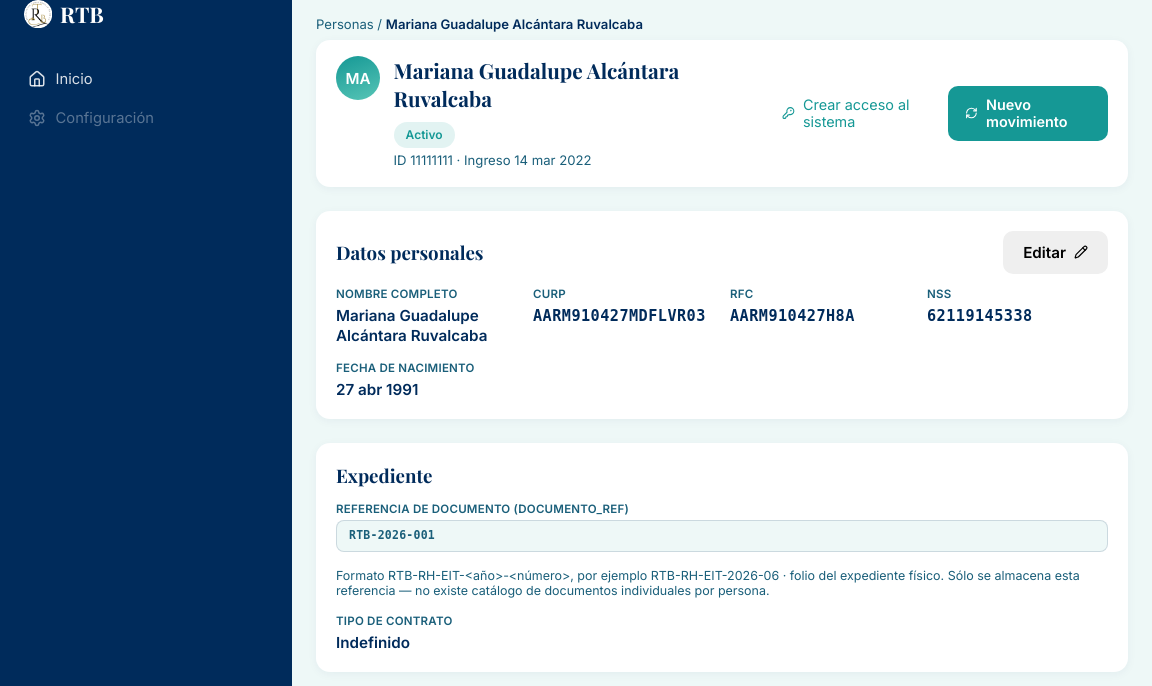
Test: FichaPersonaPage › edición in-place de Datos personales/Expediente › un folio nuevo mal formado se avisa antes de enviar y no hace PATCH
expect the text "Mariana Guadalupe Alcántara Ruvalcaba" next to "Personas" is shown: met, box [386, 16, 643, 32]
Step 1. Click the button "Editar" → (1056, 252), box [1003, 231, 1108, 274]
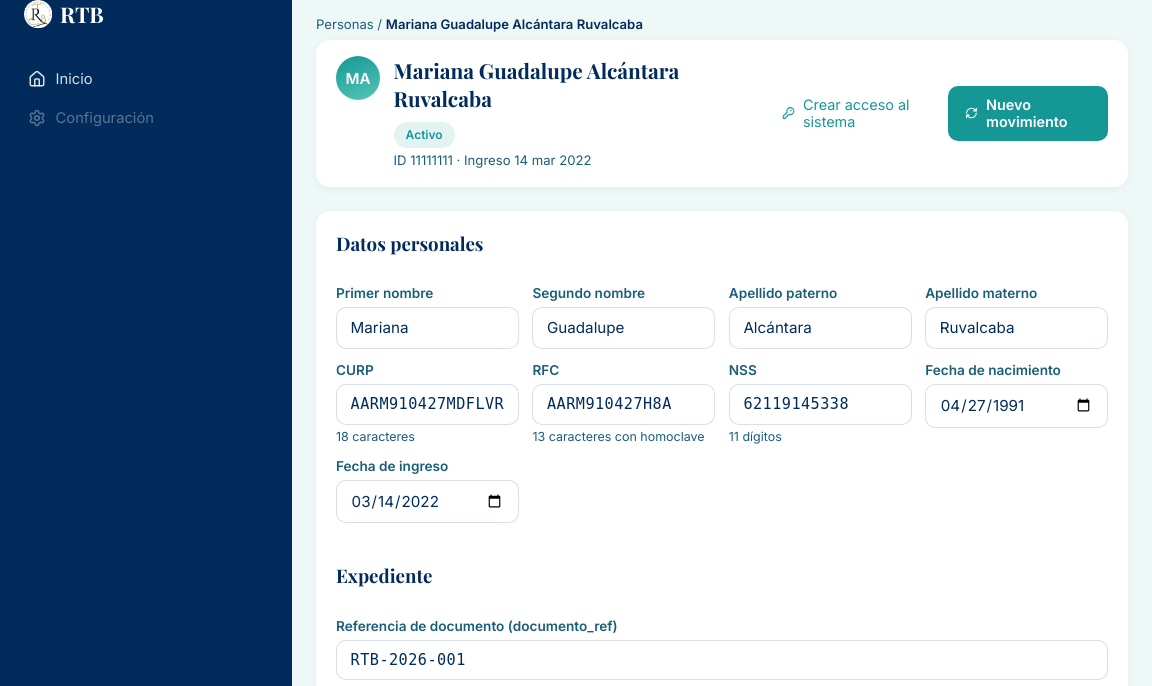
Step 2. Replace the text in the field labelled "Referencia de documento (documento_ref)" with "RTB-2026-002" → (722, 660), box [336, 640, 1108, 680]
(page scrolled)
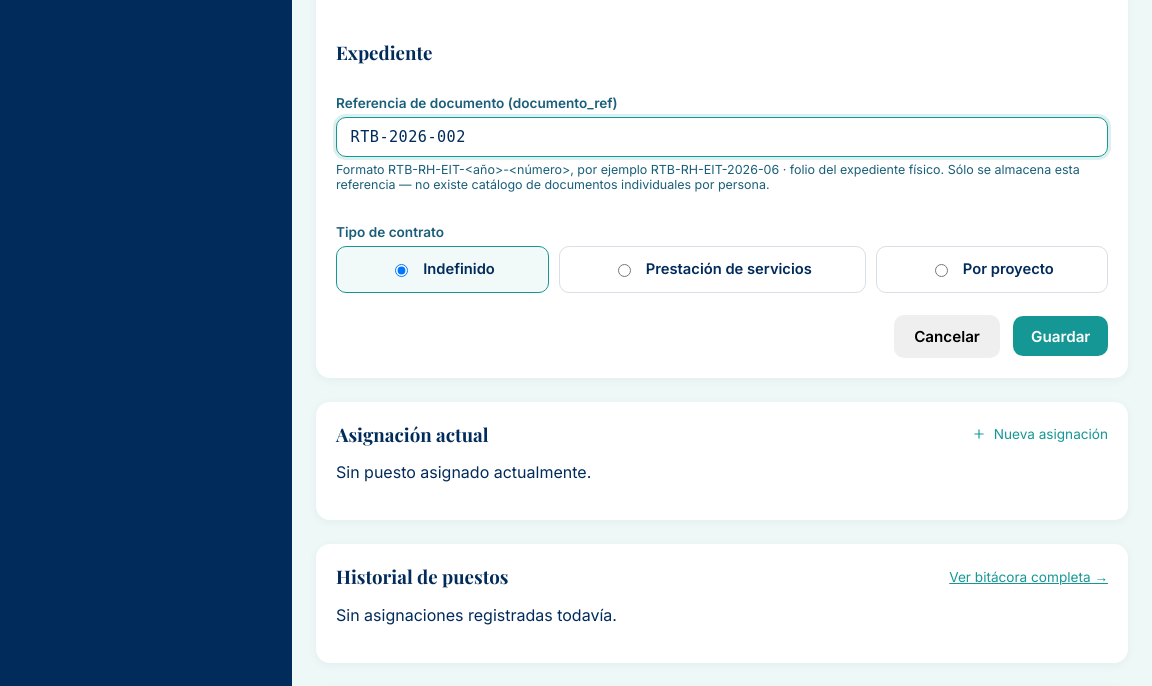
Step 3. Click the button "Guardar" → (1061, 336), box [1014, 316, 1108, 356]
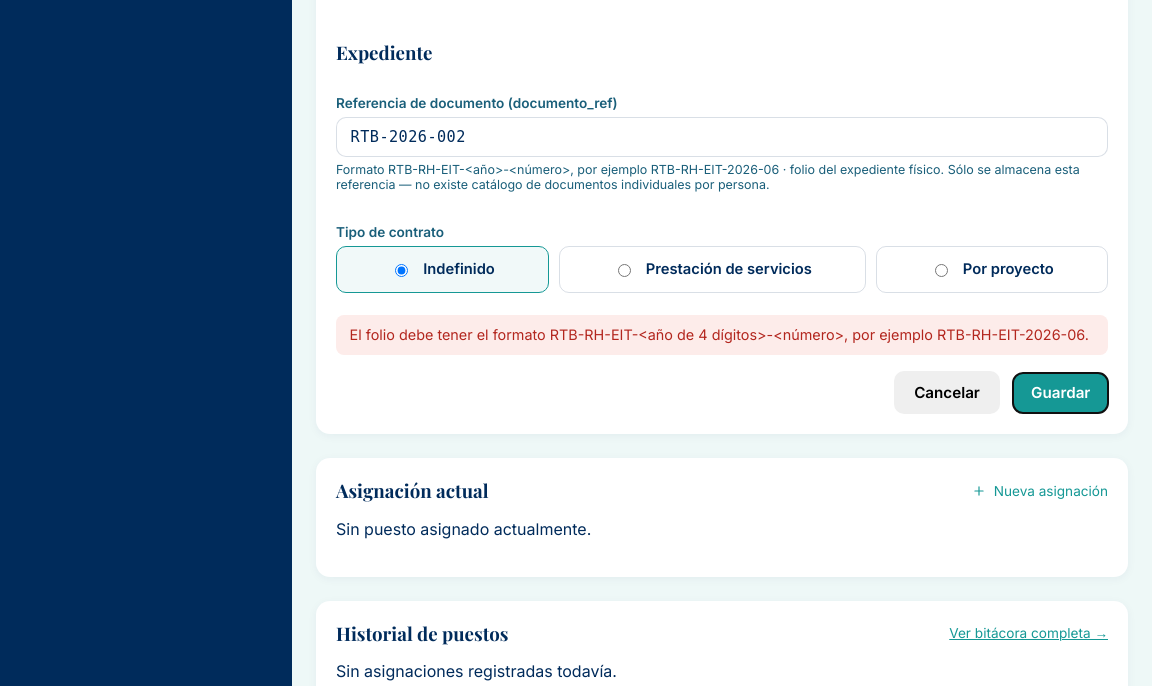
expect the text "El folio debe tener el formato RTB-RH-EIT-<año de 4 dígitos>-<número>" is shown: met, box [350, 326, 1089, 343]
